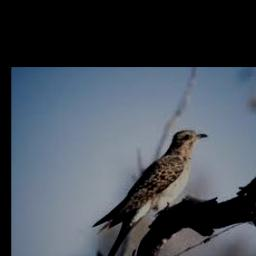Cuckoo: (92, 130, 207, 256)
